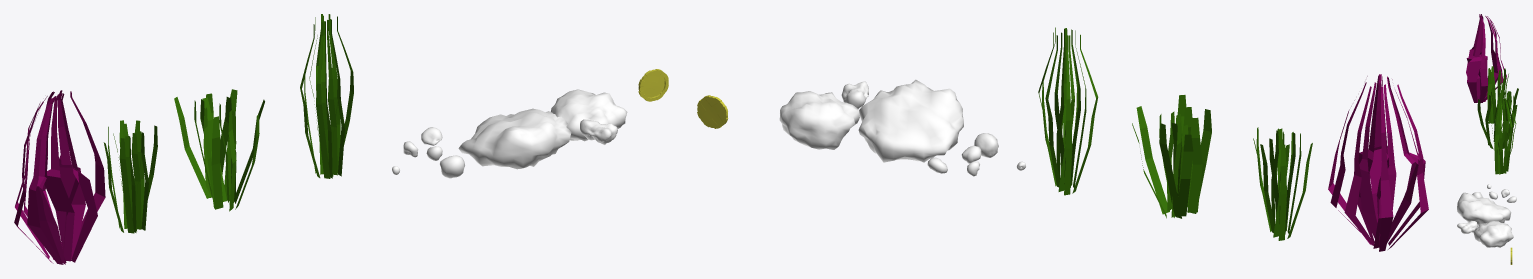
Rendered from Sea Pack.glb.
3 renders of one model, left to right at view 1: azimuth 30°, elevation 25°; view 2: azimuth 150°, elevation 25°; view 3: azimuth 270°, elevation 25°, orthographic. The views are drawn at different scales.
Visible parts, largest first — view 1: Plane005, Cube006, Plane003, Plane004, Plane002, Cube007, Circle, Cube003, Cube005; view 2: Plane005, Cube006, Plane003, Plane004, Cube007, Plane002, Circle, Cube003, Cube005; view 3: Plane005, Plane004, Cube006, Plane003, Cube007, Plane002, Cube003, Cube001, Cube, Cube002, Circle, Cube005.
Part boxes in pixels (x1,y1,x2,y2): Plane005: (14, 90, 105, 264); Cube006: (458, 108, 571, 169); Plane003: (174, 89, 264, 211); Plane004: (300, 14, 353, 178); Plane002: (103, 120, 157, 233); Cube007: (551, 89, 627, 141); Circle: (638, 69, 668, 101); Cube003: (580, 119, 617, 144); Cube005: (440, 155, 464, 178); Plane005: (1328, 74, 1428, 251); Cube006: (858, 79, 963, 162); Plane003: (1132, 95, 1211, 218); Plane004: (1038, 27, 1098, 195); Cube007: (779, 91, 859, 149); Plane002: (1253, 127, 1312, 240); Circle: (697, 95, 728, 128); Cube003: (841, 81, 868, 109); Cube005: (974, 133, 998, 157); Plane005: (1466, 14, 1506, 103); Plane004: (1494, 90, 1516, 174); Cube006: (1457, 192, 1511, 225); Plane003: (1477, 88, 1518, 149); Cube007: (1473, 221, 1513, 247); Plane002: (1487, 66, 1508, 123); Cube003: (1457, 220, 1477, 233); Cube001: (1501, 189, 1509, 197); Cube: (1489, 191, 1497, 199); Cube002: (1507, 196, 1516, 202); Circle: (1510, 247, 1512, 264); Cube005: (1472, 192, 1482, 197).
Bounding box in the file's own units: 10.11 × 2.63 × 1.55.
